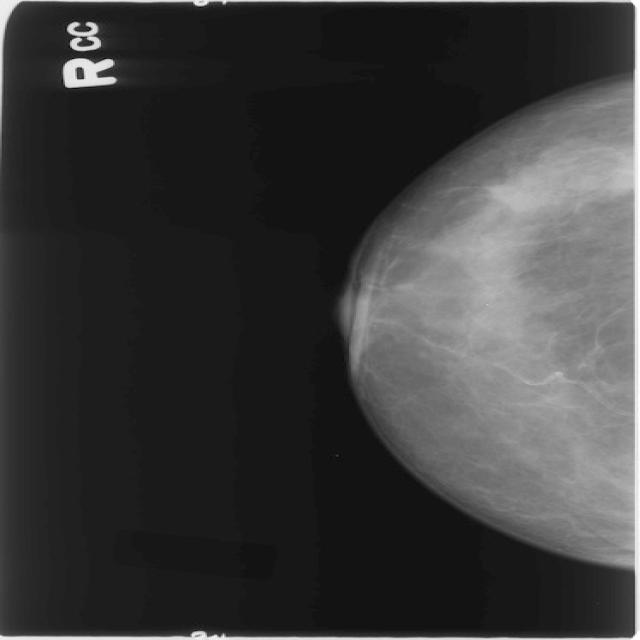tumour: (484, 166, 558, 211)
